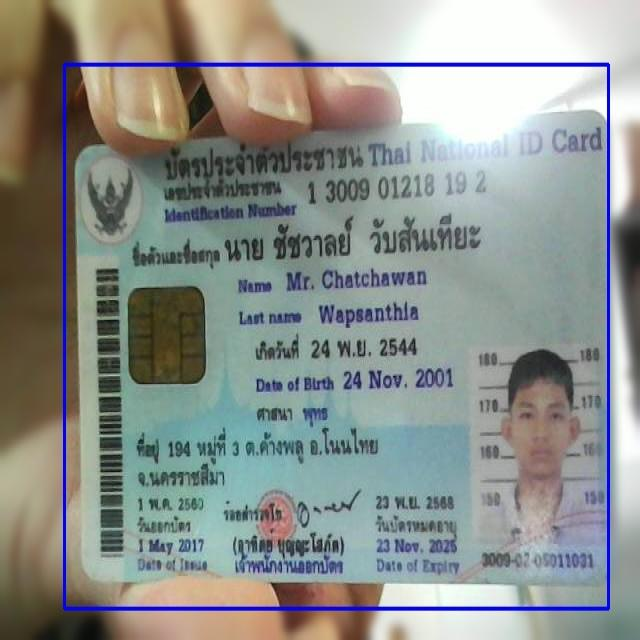Address_th: (128, 424, 400, 489)
Date_of_Birth: (340, 364, 456, 394)
Date_of_Expiry: (372, 535, 461, 557)
Date_of_Issue: (132, 536, 212, 559)
First_Name: (284, 265, 428, 293)
ID_Number: (304, 169, 489, 208)
Image: (468, 342, 607, 548)
Last_Name: (316, 297, 422, 332)
Thai_Name: (221, 212, 496, 265)
